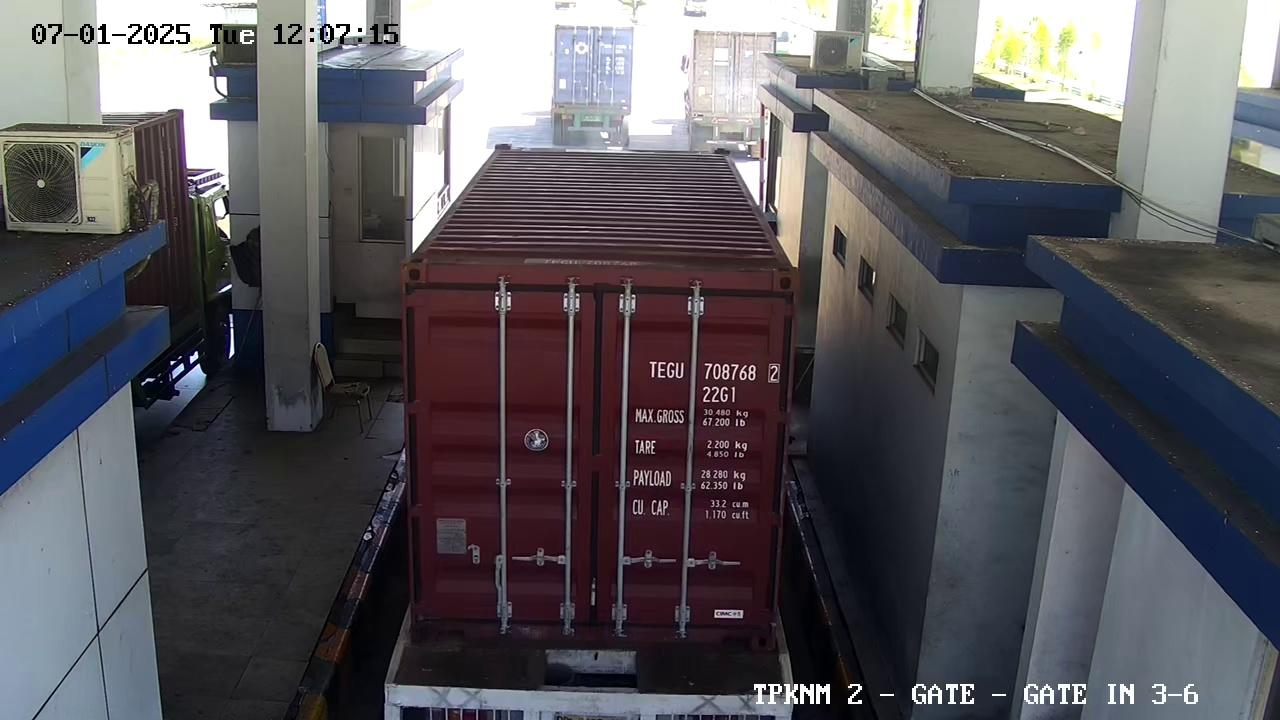Container_ID: (627, 354, 792, 386)
